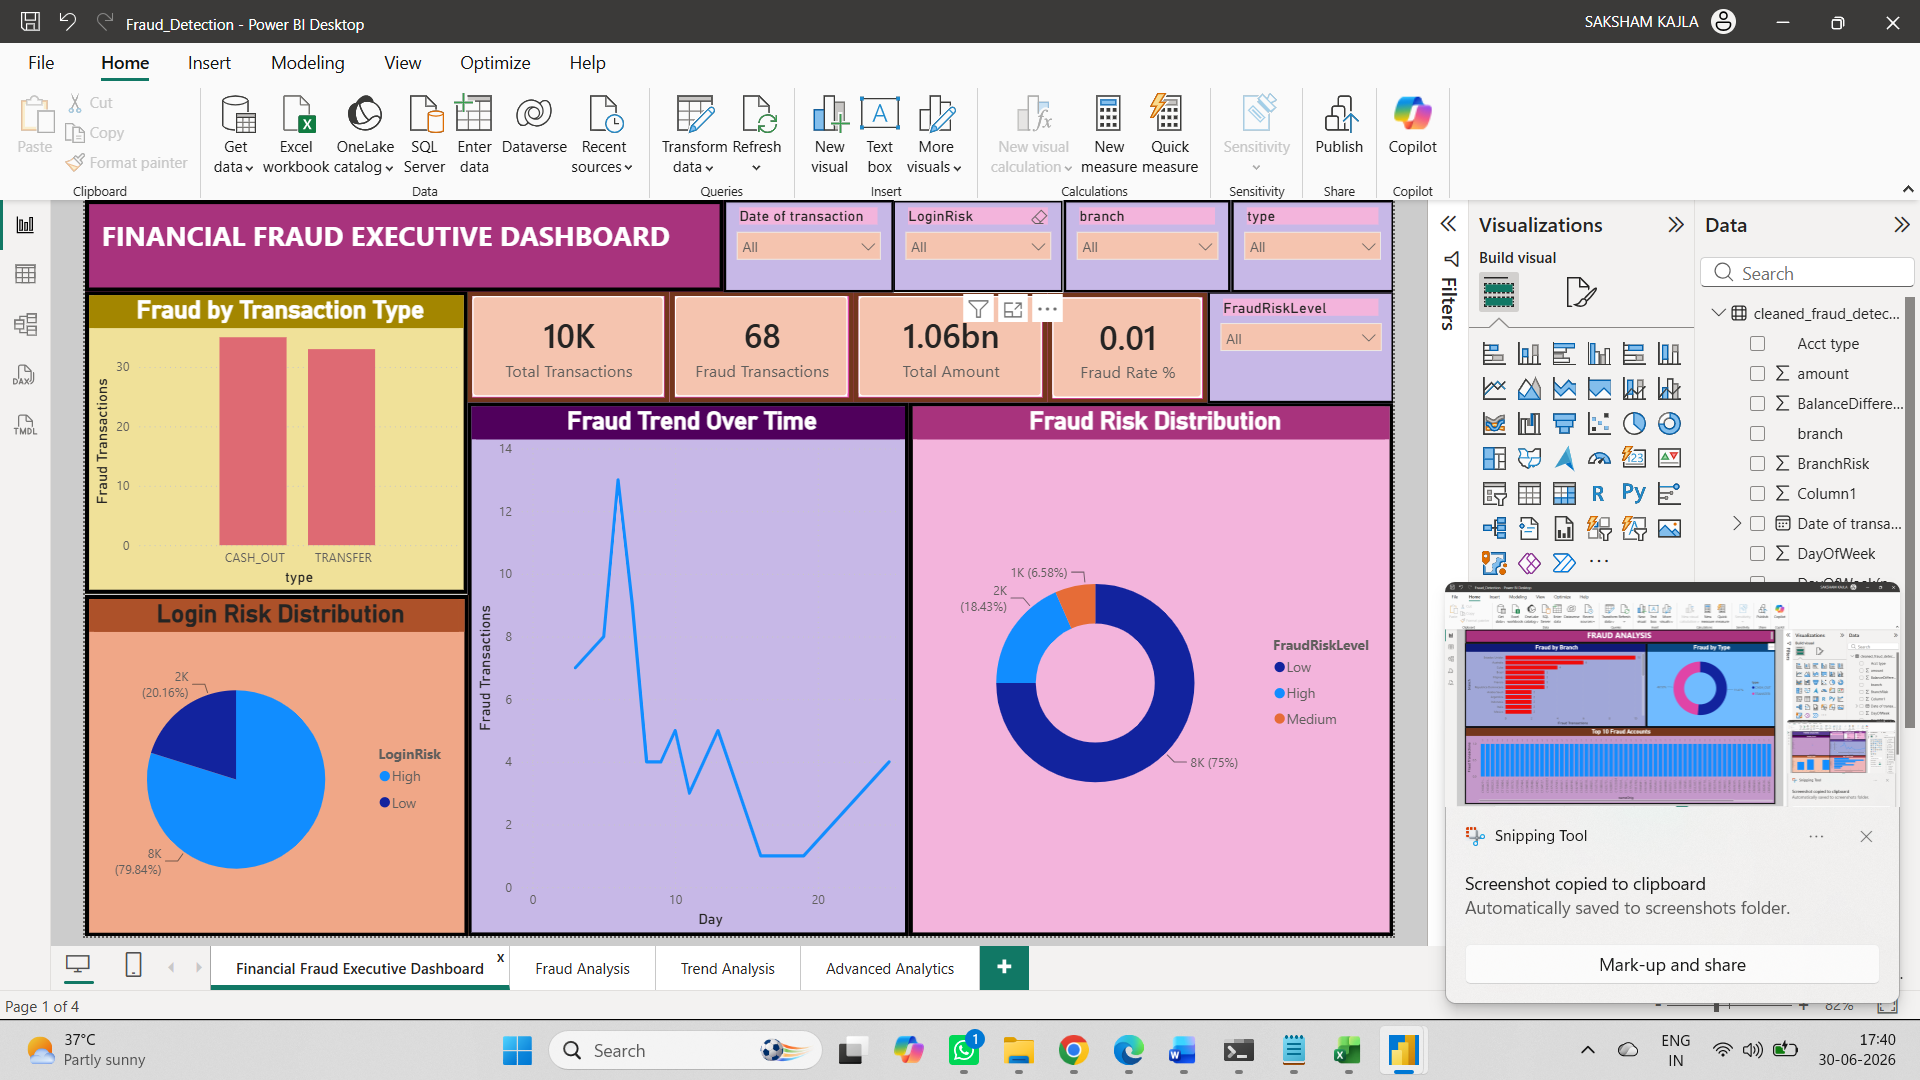

What the dashboard file says about the page in this screenshot:
{"tool":"powerbi","page":{"name":"Financial Fraud Executive Dashboard","canvas":[1280,720],"ordinal":0},"visuals":[{"type":"cardVisual","fields":{"Data":["cleaned_fraud_detection.Total Transactions"]},"box":[374.6,89.2,197.6,108.4],"z":0},{"type":"cardVisual","fields":{"Data":["cleaned_fraud_detection.Fraud Transactions"]},"box":[572.2,89.2,179.8,108.4],"z":1000},{"type":"cardVisual","fields":{"Data":["cleaned_fraud_detection.Fraud Rate %"]},"box":[941.3,90.6,156.4,108.4],"z":2000},{"type":"cardVisual","fields":{"Data":["cleaned_fraud_detection.Total Amount"]},"box":[752,89.2,189.4,108.4],"z":3000},{"type":"clusteredColumnChart","title":"Fraud by Transaction Type","fields":{"Category":["cleaned_fraud_detection.type"],"Y":["cleaned_fraud_detection.Fraud Transactions"]},"box":[0,89.2,374.6,296.4],"z":4000},{"type":"lineChart","title":"Fraud Trend Over Time","fields":{"Category":["cleaned_fraud_detection.Date of transaction.Variation.Date Hierarchy.Day"],"Y":["cleaned_fraud_detection.Fraud Transactions"]},"box":[374.2,198.1,431.7,522.1],"z":5000},{"type":"donutChart","title":"Fraud Risk Distribution","fields":{"Category":["cleaned_fraud_detection.FraudRiskLevel"],"Y":["cleaned_fraud_detection.Total Transactions"]},"box":[805.8,198.1,474.5,522.1],"z":6000},{"type":"pieChart","title":"Login Risk Distribution","fields":{"Category":["cleaned_fraud_detection.LoginRisk"],"Y":["cleaned_fraud_detection.Total Transactions"]},"box":[0,386.1,374.9,334.1],"z":7000},{"type":"slicer","fields":{"Values":["cleaned_fraud_detection.FraudRiskLevel"]},"box":[1097.8,89.2,182.5,109.8],"z":8000},{"type":"slicer","fields":{"Values":["cleaned_fraud_detection.LoginRisk"]},"box":[790.4,0,167.4,90.6],"z":9000},{"type":"slicer","fields":{"Values":["cleaned_fraud_detection.branch"]},"box":[957.8,0,163.3,90.6],"z":10000},{"type":"slicer","fields":{"Values":["cleaned_fraud_detection.type"]},"box":[1121.1,0,159.2,90.6],"z":11000},{"type":"slicer","fields":{"Values":["cleaned_fraud_detection.Date of transaction"]},"box":[624.4,0,166,90.6],"z":12000},{"type":"textbox","box":[0,0,624.9,89.3],"z":13000}]}

Visuals, with their boxes on the page's 1280x720 design canvas (x1, y1, x2, y2). These are canvas units, not pixel positions in the 1920x1080 screenshot, which may show the page scaled, cropped or inside an application window:
cardVisual - cleaned_fraud_detection.Total Transactions: detection(375, 89, 572, 198)
cardVisual - cleaned_fraud_detection.Fraud Transactions: detection(572, 89, 752, 198)
cardVisual - cleaned_fraud_detection.Fraud Rate %: detection(941, 91, 1098, 199)
cardVisual - cleaned_fraud_detection.Total Amount: detection(752, 89, 941, 198)
"Fraud by Transaction Type" clusteredColumnChart: detection(0, 89, 375, 386)
"Fraud Trend Over Time" lineChart: detection(374, 198, 806, 720)
"Fraud Risk Distribution" donutChart: detection(806, 198, 1280, 720)
"Login Risk Distribution" pieChart: detection(0, 386, 375, 720)
slicer - cleaned_fraud_detection.FraudRiskLevel: detection(1098, 89, 1280, 199)
slicer - cleaned_fraud_detection.LoginRisk: detection(790, 0, 958, 91)
slicer - cleaned_fraud_detection.branch: detection(958, 0, 1121, 91)
slicer - cleaned_fraud_detection.type: detection(1121, 0, 1280, 91)
slicer - cleaned_fraud_detection.Date of transaction: detection(624, 0, 790, 91)
textbox: detection(0, 0, 625, 89)
